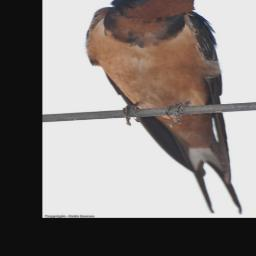Swallow: (84, 0, 245, 215)
